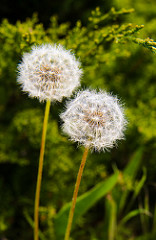dandelion white: (14, 41, 85, 106), (60, 87, 127, 154)
